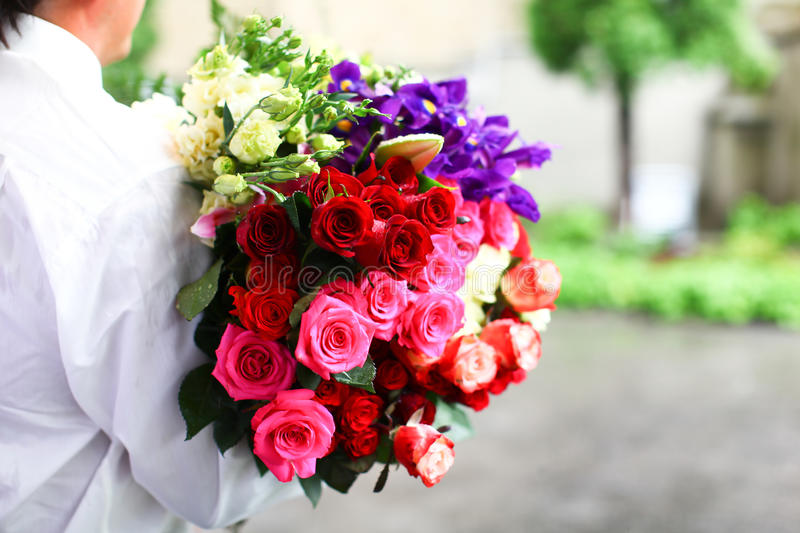RedRose: (230, 281, 301, 342), (235, 198, 303, 258), (367, 217, 430, 277), (315, 194, 370, 250), (300, 162, 362, 209), (374, 152, 423, 197), (244, 250, 292, 293), (360, 182, 408, 224), (416, 186, 453, 234), (313, 371, 355, 410), (411, 363, 449, 406), (345, 386, 387, 424), (374, 354, 411, 395), (346, 425, 389, 460), (402, 390, 437, 432)
